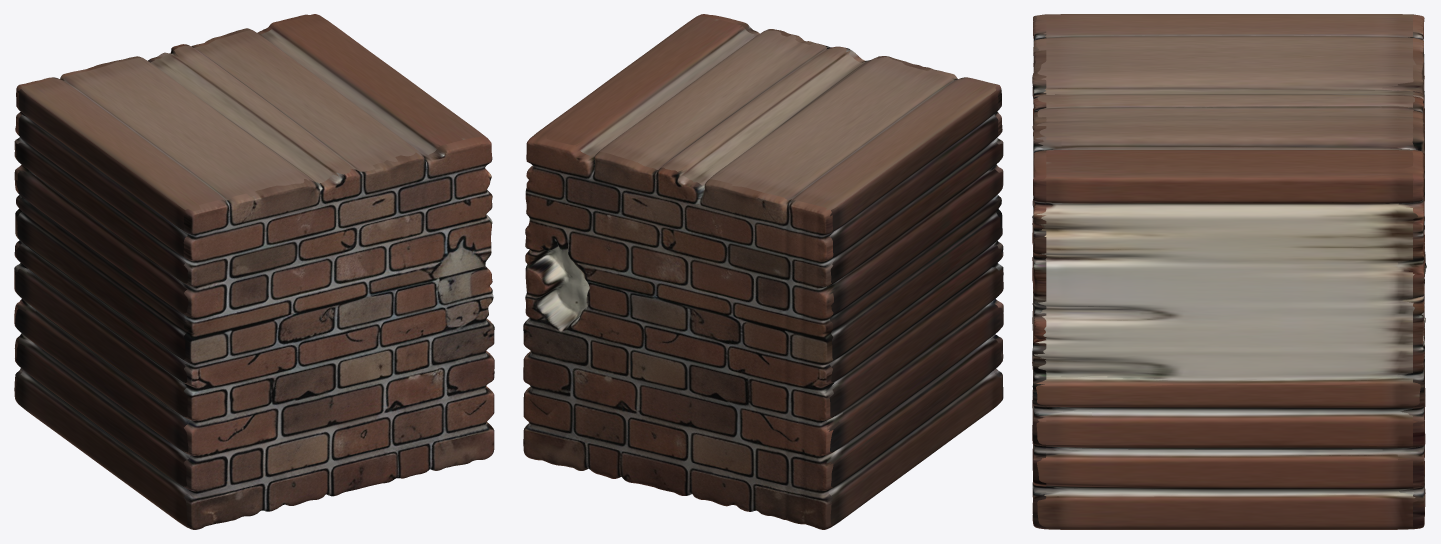
The model's file is wall-brick-damaged.glb.
3 renders of one model, left to right at view 1: azimuth 30°, elevation 25°; view 2: azimuth 150°, elevation 25°; view 3: azimuth 270°, elevation 25°, orthographic. The views are drawn at different scales.
Visible parts, largest first — view 1: tmp2qtkpkz0.ply; view 2: tmp2qtkpkz0.ply; view 3: tmp2qtkpkz0.ply.
Part boxes in pixels (box(x1,y1,x2,y2)): tmp2qtkpkz0.ply: box(14, 14, 494, 529); tmp2qtkpkz0.ply: box(523, 14, 1003, 529); tmp2qtkpkz0.ply: box(1032, 14, 1426, 529).
Bounding box in the file's own units: 1 × 1 × 1.
1 material, 1 textured.
